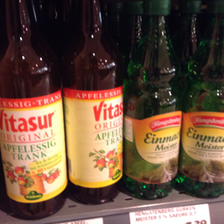vinegar: (2, 1, 70, 220), (60, 1, 125, 207), (121, 1, 182, 198), (179, 1, 224, 201)
